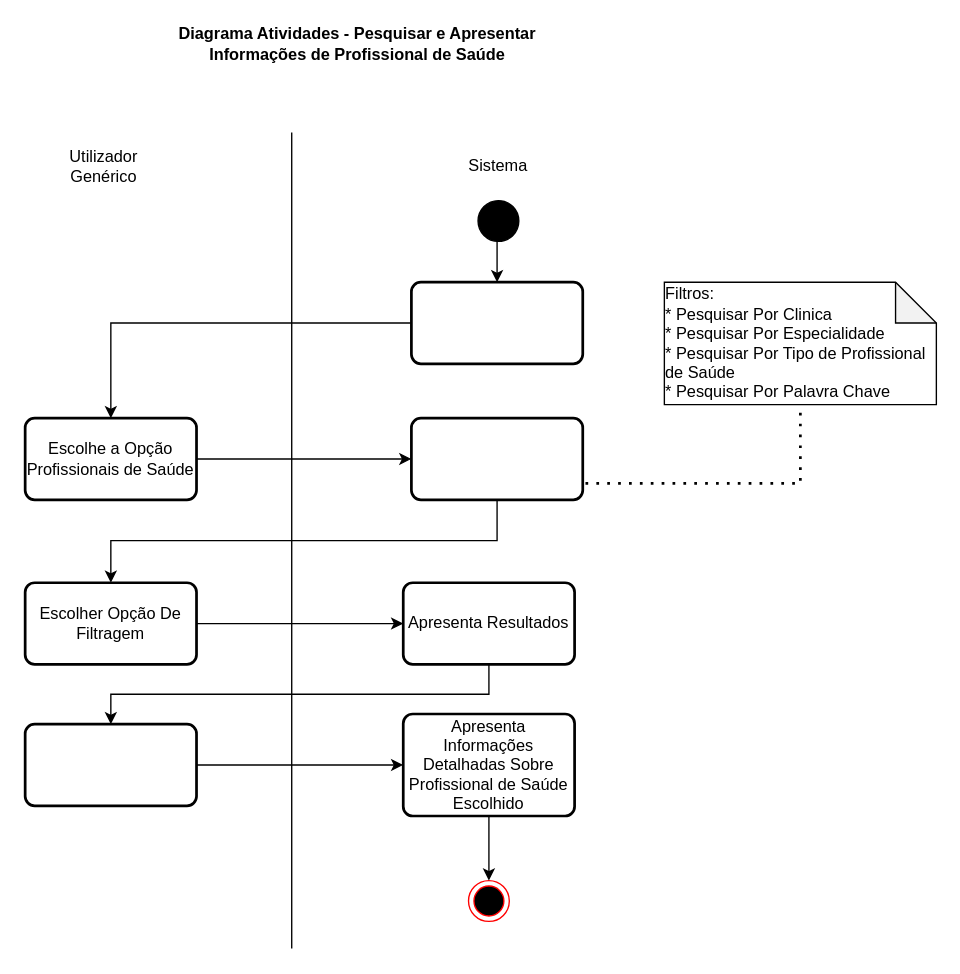
The diagram is 960 pixels wide and 974 high, and some of its shapes have lost their labels. Here are the shapes that lost their labels. From the top down, the box of each, then its label:
(409, 280, 583, 364): Apresenta Página Com Menu de Escolhas
(409, 416, 583, 500): Apresenta Opções de Filtragem
(23, 722, 197, 806): Selecciona o Profissional de Saúde Pretendido
